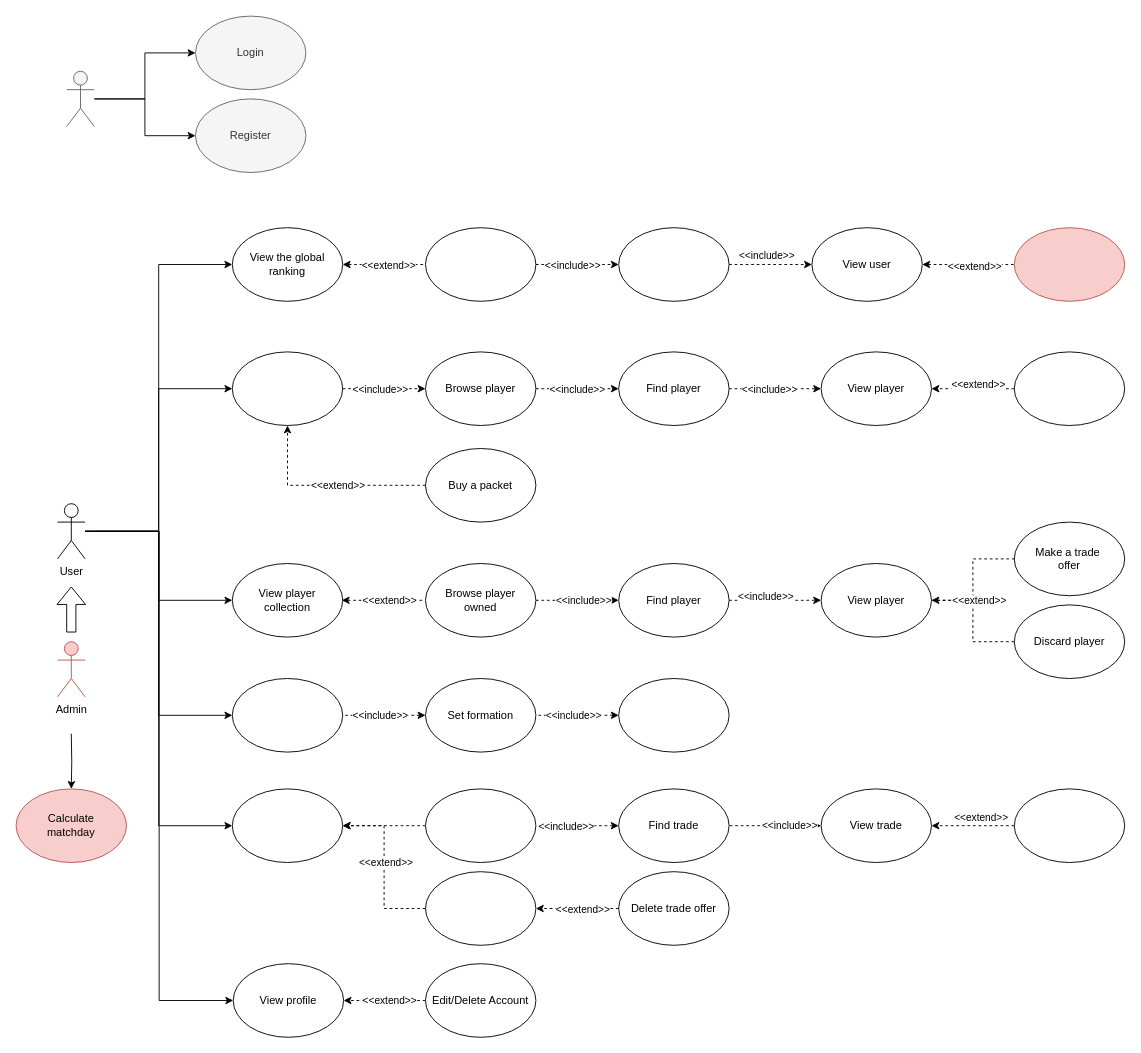
Image size: 1141x1053. Some labels were removed from this diagram. The shapes that lost their labels are listed below. From the top down, each one's centre as x and y in pixels, then its label:
(x=80, y=98): Unregistered User
(x=480, y=264): Browse user
(x=673, y=264): Find user
(x=1069, y=264): Edit/Delete user
(x=287, y=388): View the shop
(x=1069, y=388): Buy player
(x=287, y=715): Set lineup
(x=673, y=715): Choose players
(x=287, y=825): Open trade market
(x=480, y=825): Browse trade
(x=1069, y=825): Accept trade
(x=480, y=908): View my trade offers
